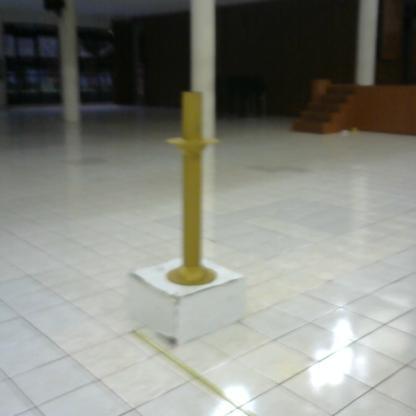pole: (160, 82, 226, 289)
